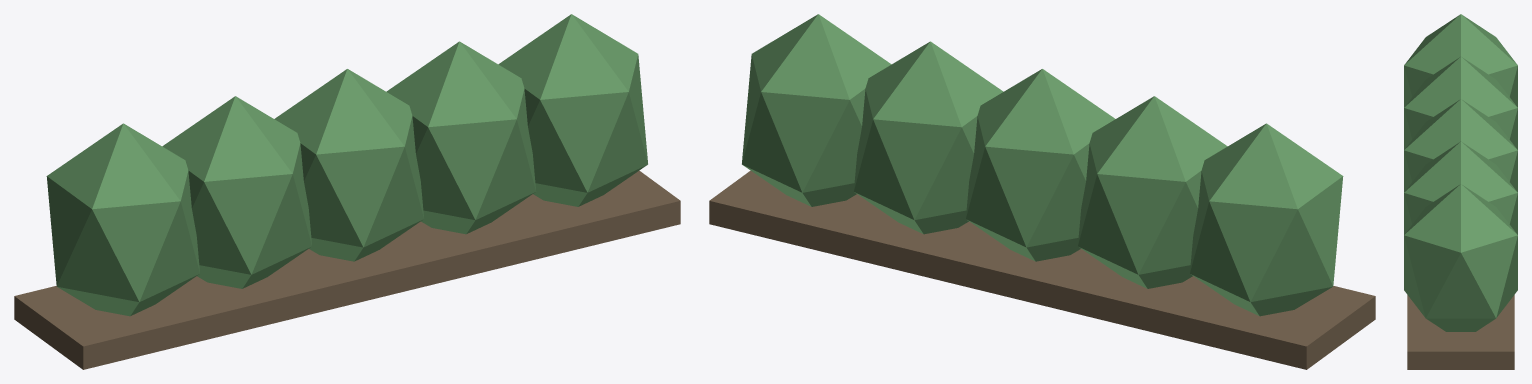
File: hedge_row.glb
3 views of the same model, side by side, from view 1: azimuth 30°, elevation 25°; view 2: azimuth 150°, elevation 25°; view 3: azimuth 270°, elevation 25° (orthographic). The views are drawn at different scales.
Parts seen in each view (by area): view 1: soil, hedge, hedge.004, hedge.001, hedge.002, hedge.003; view 2: soil, hedge, hedge.004, hedge.001, hedge.002, hedge.003; view 3: hedge.004, soil, hedge.003, hedge, hedge.002, hedge.001.
Part boxes in pixels (left/top/right/bottom): soil: left=14, top=170, right=680, bottom=369; hedge: left=46, top=123, right=199, bottom=316; hedge.004: left=498, top=14, right=647, bottom=206; hedge.001: left=162, top=96, right=311, bottom=288; hedge.002: left=274, top=69, right=423, bottom=261; hedge.003: left=386, top=41, right=536, bottom=234; soil: left=709, top=170, right=1375, bottom=369; hedge: left=1190, top=123, right=1343, bottom=316; hedge.004: left=742, top=14, right=891, bottom=206; hedge.001: left=1078, top=96, right=1227, bottom=288; hedge.002: left=966, top=69, right=1115, bottom=261; hedge.003: left=853, top=41, right=1003, bottom=234; hedge.004: left=1404, top=184, right=1517, bottom=331; soil: left=1407, top=295, right=1514, bottom=369; hedge.003: left=1404, top=141, right=1517, bottom=234; hedge: left=1404, top=14, right=1517, bottom=107; hedge.002: left=1404, top=99, right=1517, bottom=192; hedge.001: left=1404, top=56, right=1517, bottom=149.
Bounding box in the file's own units: 4 × 1.3 × 0.8506.
